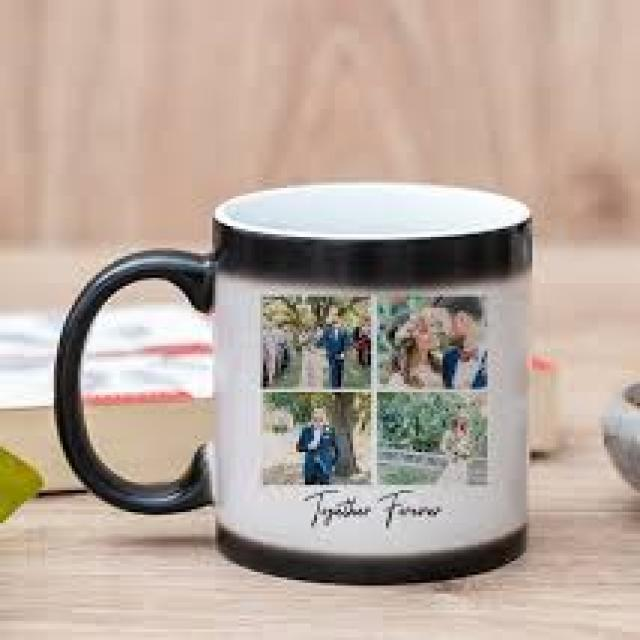taza: (53, 181, 536, 584)
